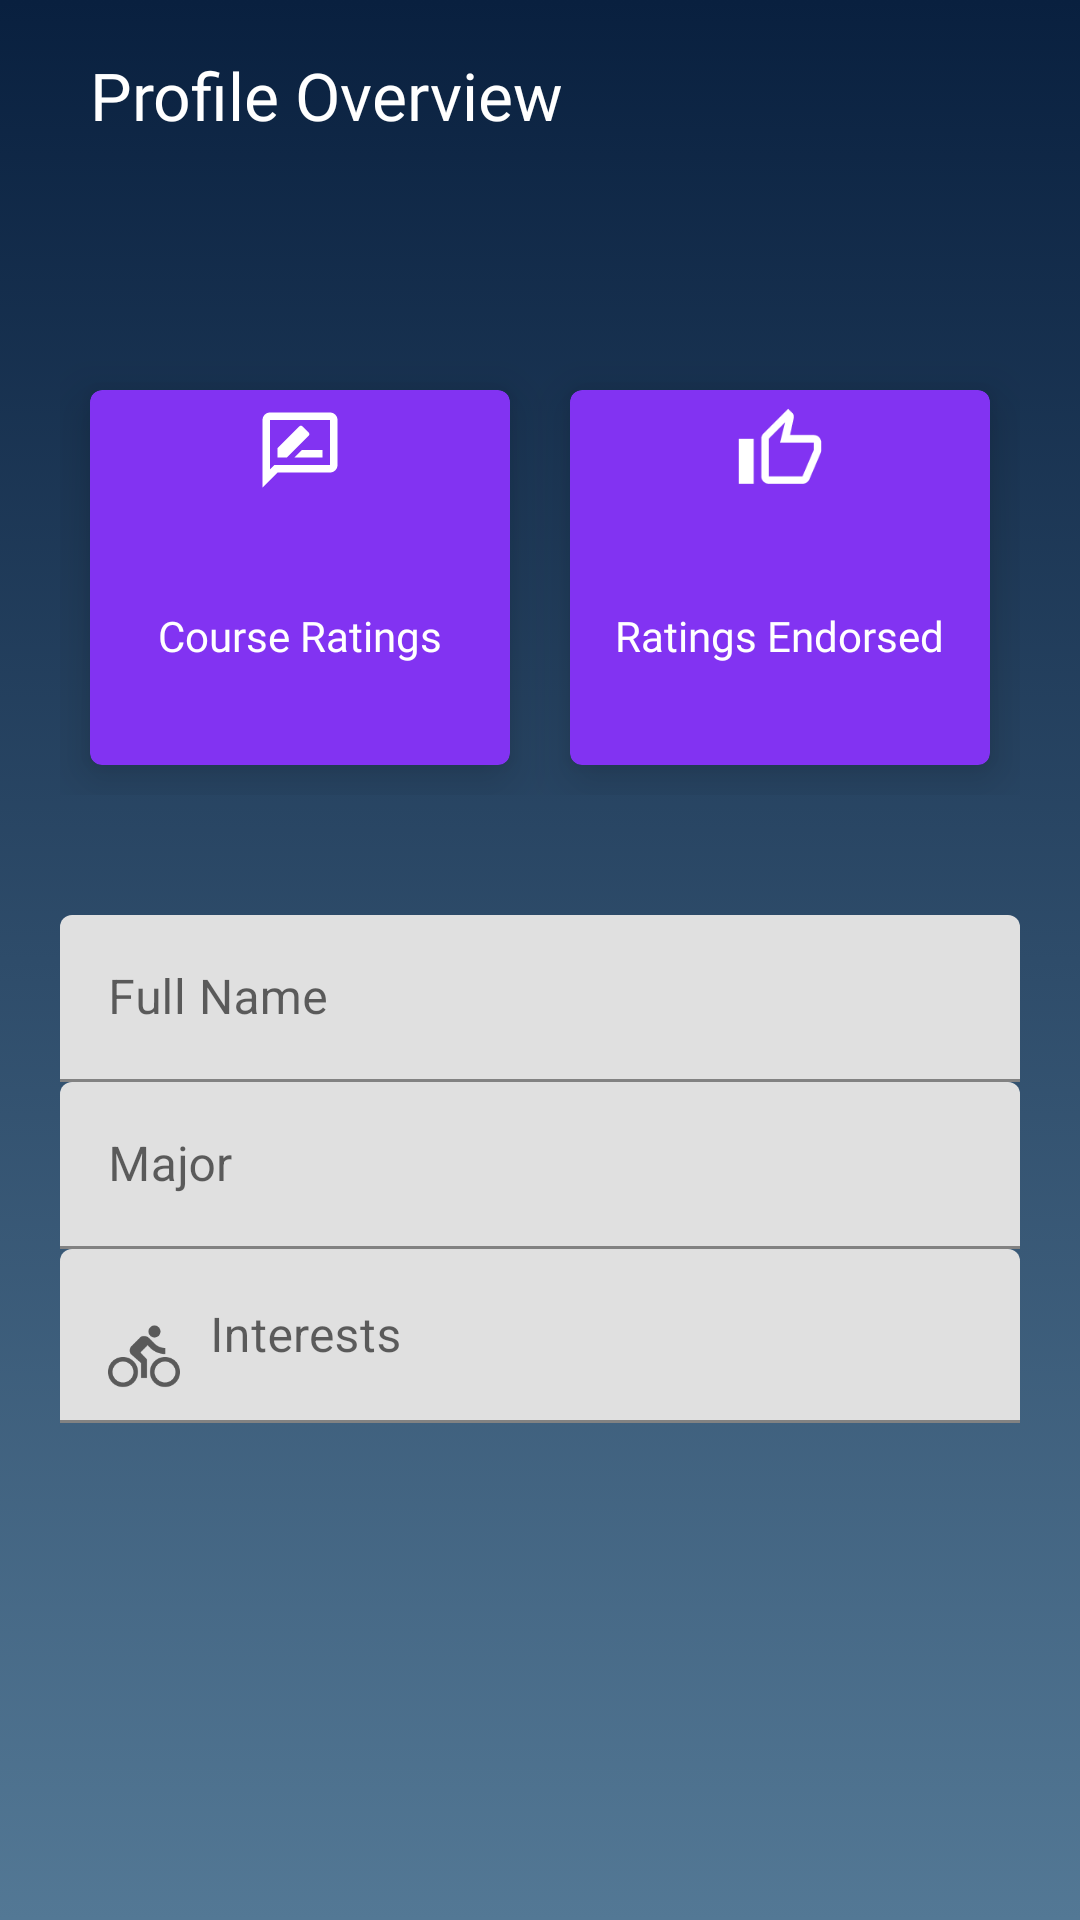

Where icons sit on this 1080 x 1920 app screen, as detection(x1, y1, x2, y2):
rate: detection(262, 412, 338, 488)
thumbs up: detection(738, 409, 822, 484)
